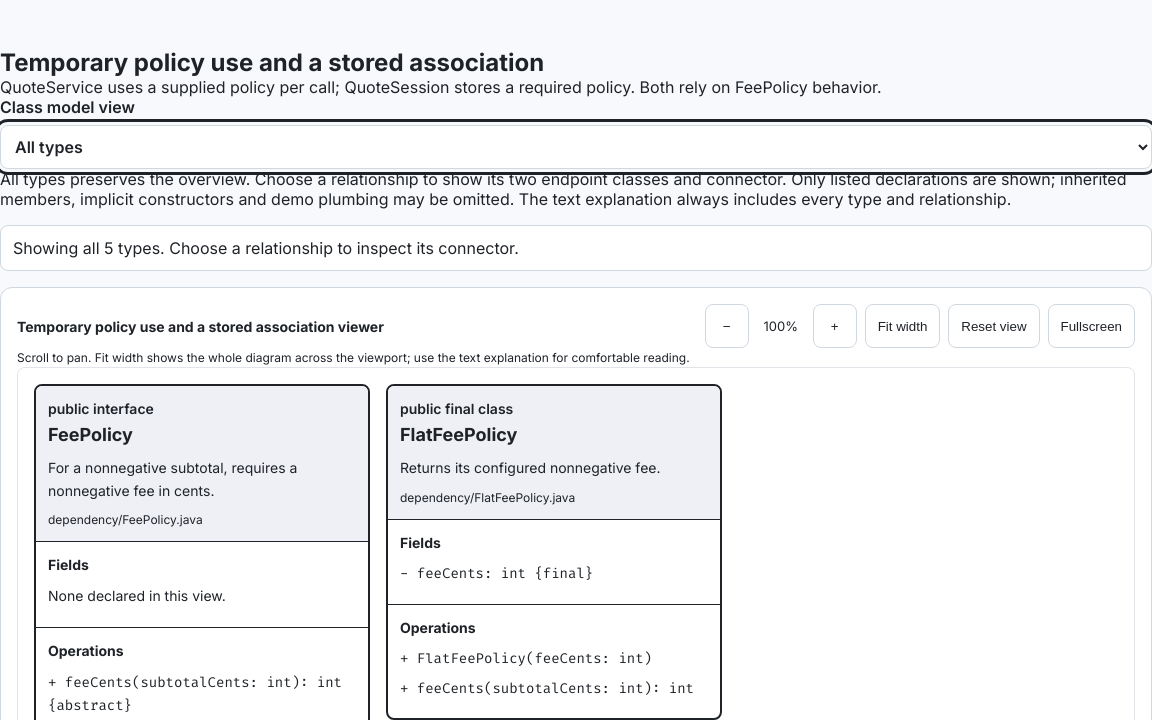
Test: Curated relationship connectors › Dependency selects actual endpoint compartments with the correct connector ends
This screenshot has width=1152, height=720.
Select "Dependency: QuoteService / FeePolicy" in the dropdown labelled "Class model view" at x=576, y=147, box [0,125,1151,169]
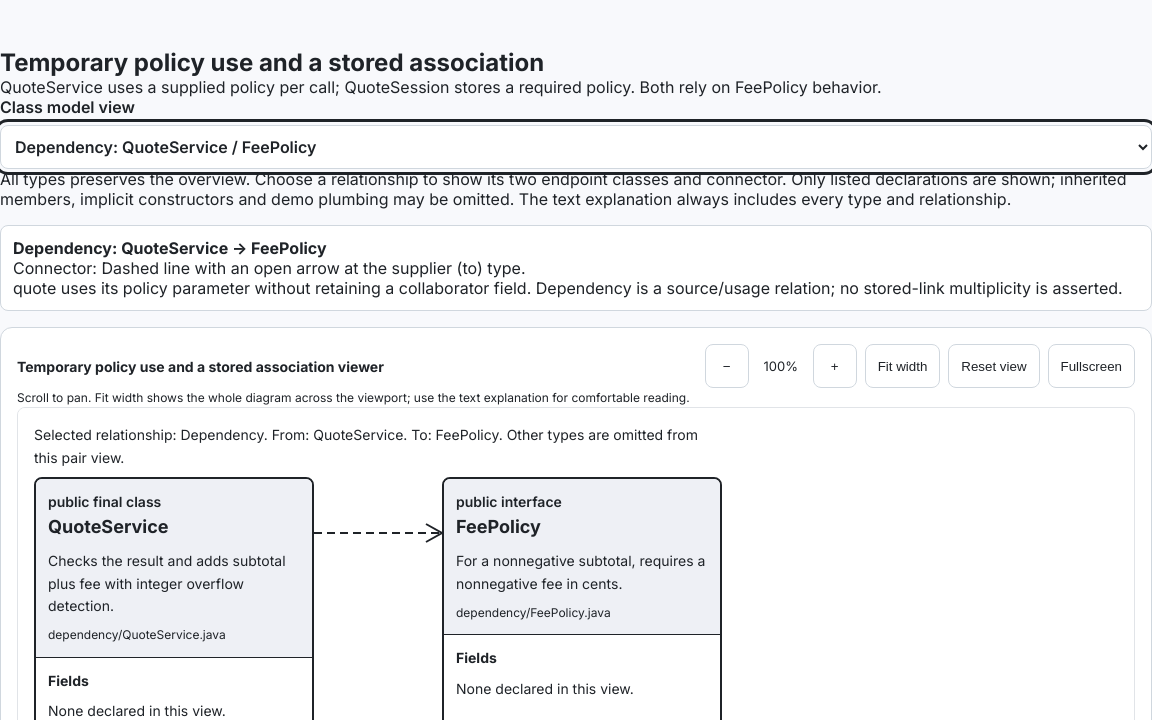
Result: the element with class "lesson-class-model-selection" shows "quote uses its policy parameter without retaining a collaborator field. Dependency is a source/usage relation; no stored-link multiplicity is asserted." at [13,278,1123,298]
Select "All types" in the dropdown labelled "Class model view" at x=576, y=147, box [0,125,1151,169]
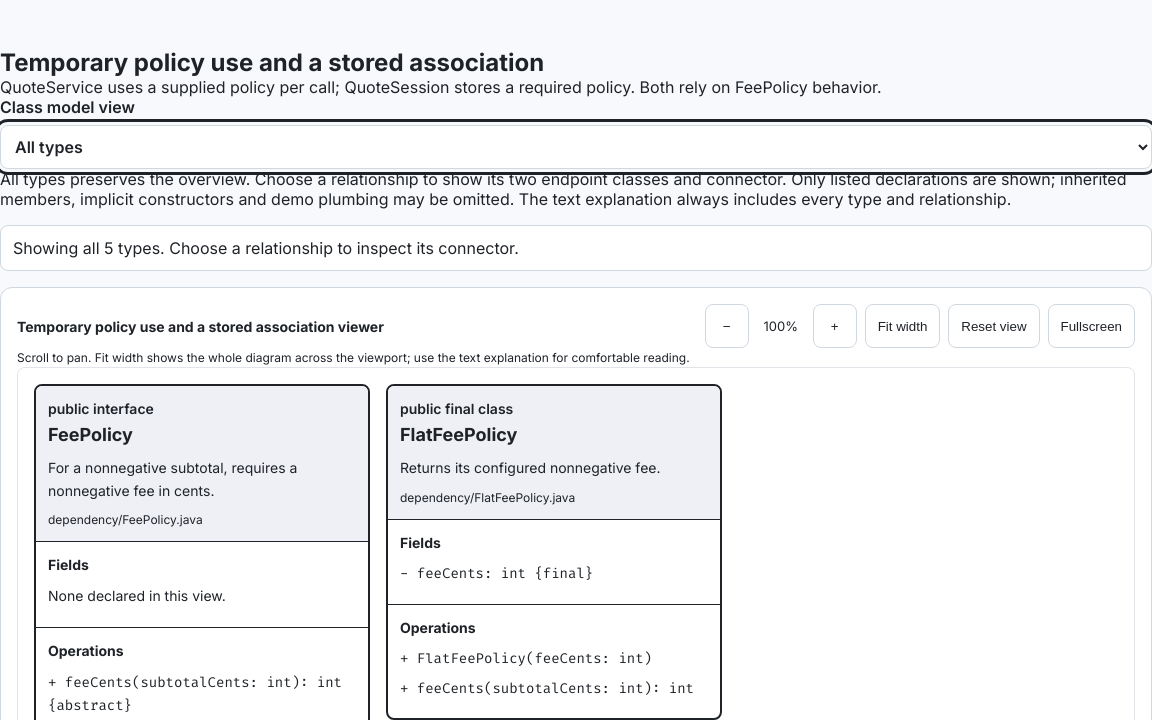
Result: the icon is gone
